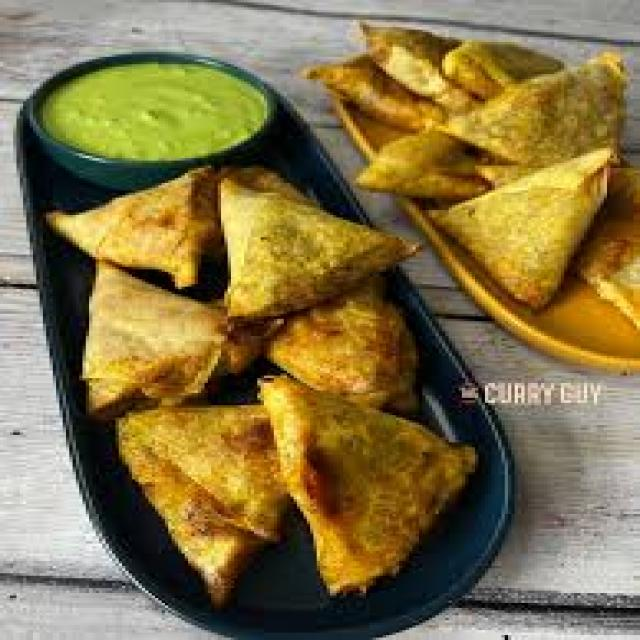SAMOSA: (260, 364, 505, 612), (110, 398, 297, 620), (426, 154, 625, 324), (222, 176, 439, 329), (81, 261, 279, 421), (28, 163, 213, 298)
